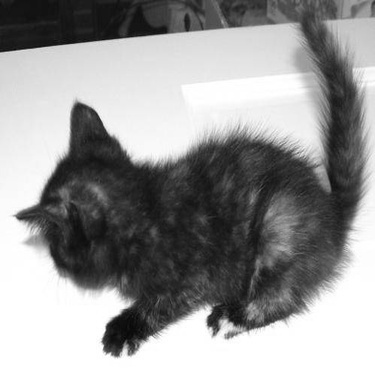cat: (15, 9, 366, 358)
